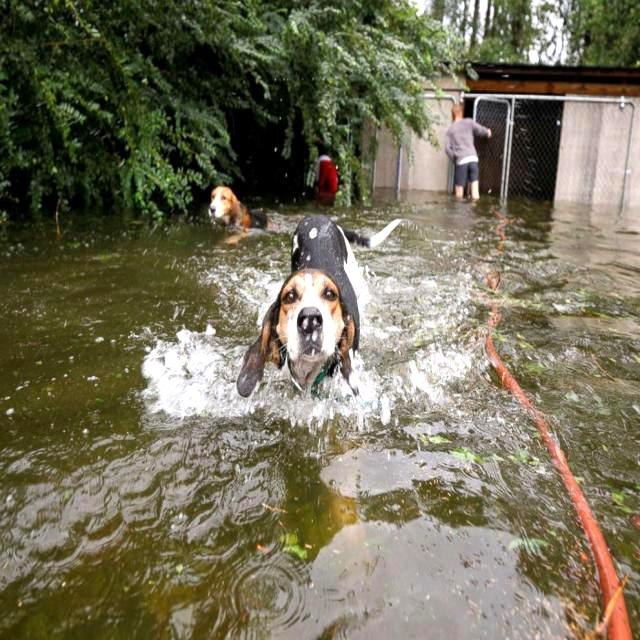civilian: (439, 97, 498, 202)
dog: (240, 201, 410, 407), (192, 176, 269, 237)
